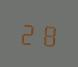eight: (38, 19, 56, 48)
two: (19, 18, 37, 46)
